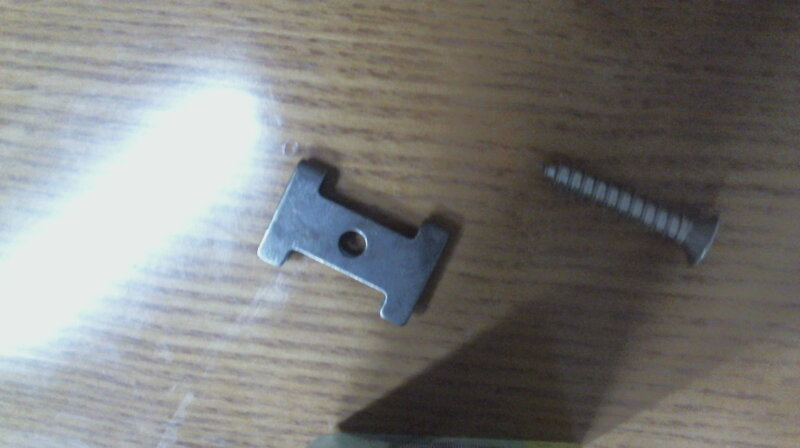O002: (249, 155, 454, 328)
S001: (535, 157, 724, 271)
